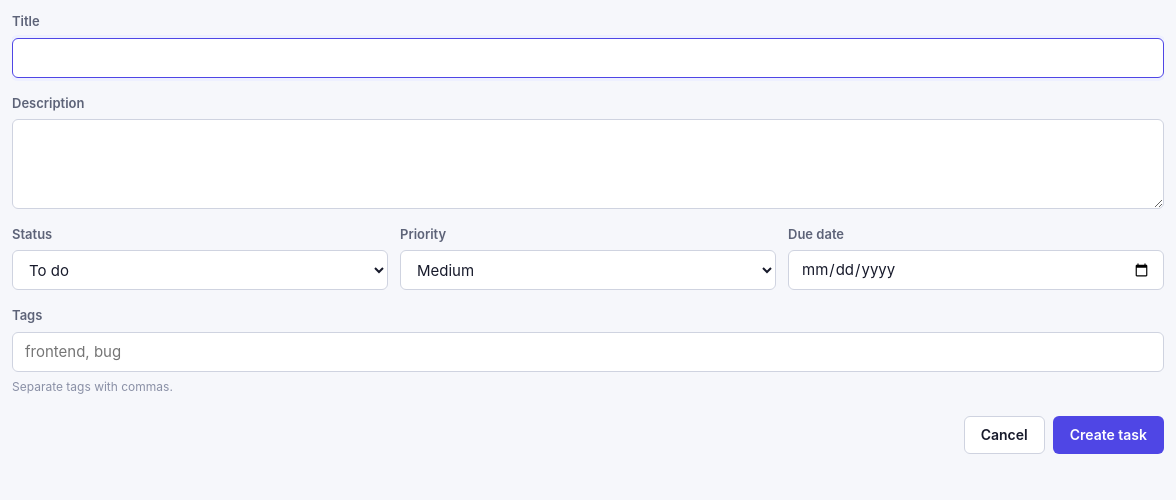
Test case: TaskForm › requires a title before submitting
Click the button "Create task". click: x=1108, y=434
box: [1053,416,1164,454]
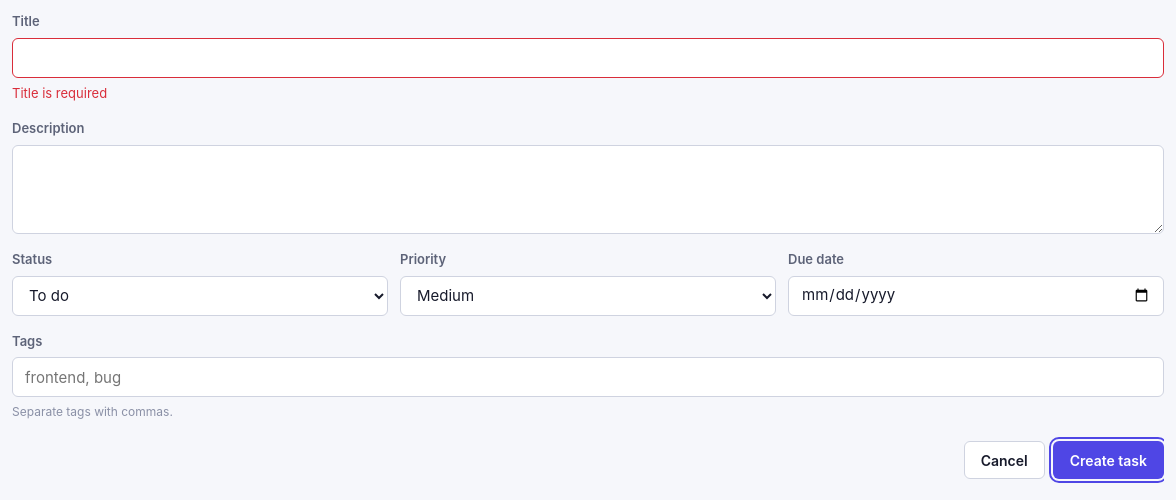
Check: the text "Title is required" is shown, box [12,84,107,100]
